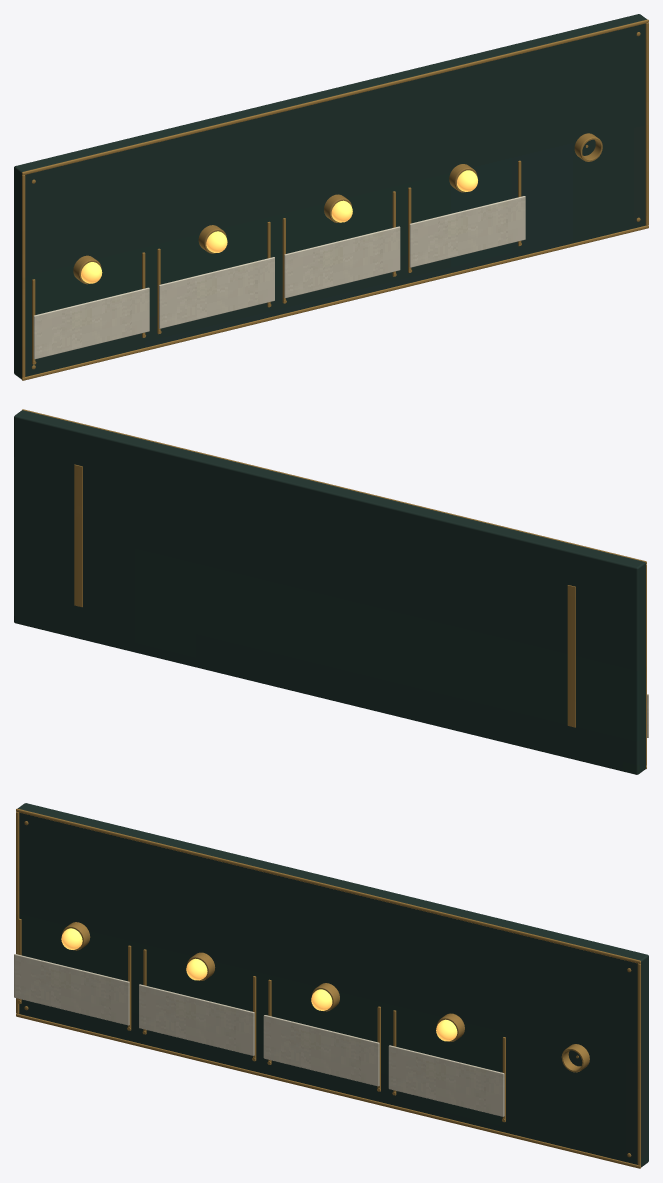
Rendered from application-board.glb.
The picture shows the model from 3 angles, top to bottom: view 1: azimuth 30°, elevation 25°; view 2: azimuth 150°, elevation 25°; view 3: azimuth 330°, elevation 25°; orthographic projection.
Visible parts, largest first — view 1: board-shell, board-trim, catch-1, catch-3, catch-4, catch-2; view 2: board-shell, board-trim; view 3: board-shell, board-trim, catch-4, catch-3, catch-1, catch-2.
Part boxes in pixels (x1,y1,x2,y2): board-shell: (14,14,646,379); board-trim: (22,19,648,380); catch-1: (33,287,149,359); catch-3: (284,226,400,298); catch-4: (409,196,525,267); catch-2: (159,257,274,328); board-shell: (14,410,645,774); board-trim: (22,409,646,769); board-shell: (18,803,648,1167); board-trim: (16,808,640,1168); catch-4: (388,1045,504,1116); catch-3: (263,1015,379,1086); catch-1: (14,954,129,1025); catch-2: (139,984,254,1055).
Size of the model in its own units: 1.95 by 0.62 by 0.1155.
3 materials, 2 textured.
